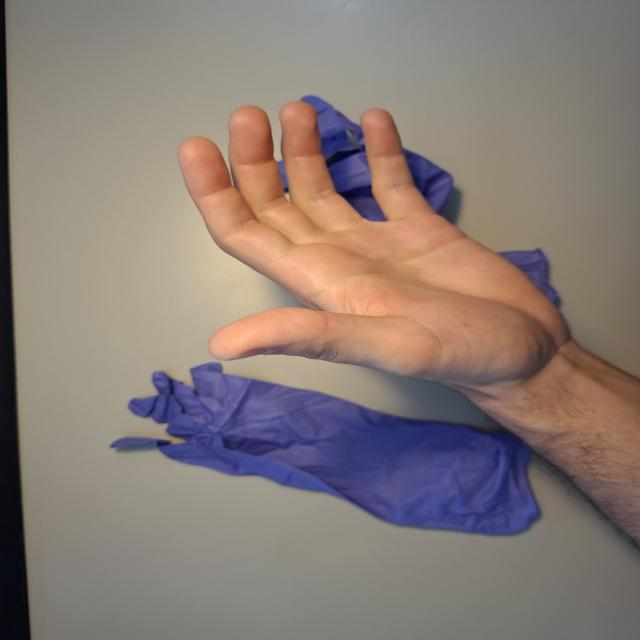glove_off: (173, 99, 583, 396)
